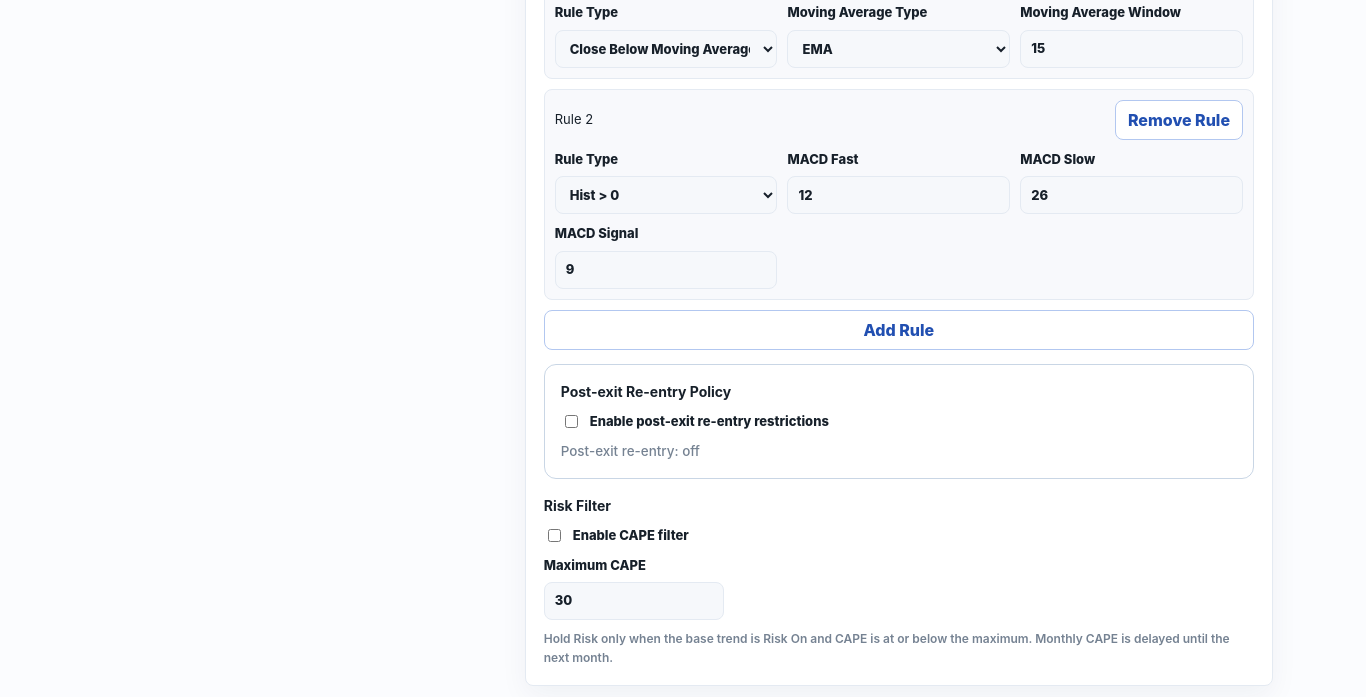
Test: BacktestLabPage › places the policy after exit rules and exposes MACD release parameters with row errors
(page scrolled)
Click the checkbox labelled "Enable post-exit re-entry restrictions" at (571, 422), box [565,415,578,428]
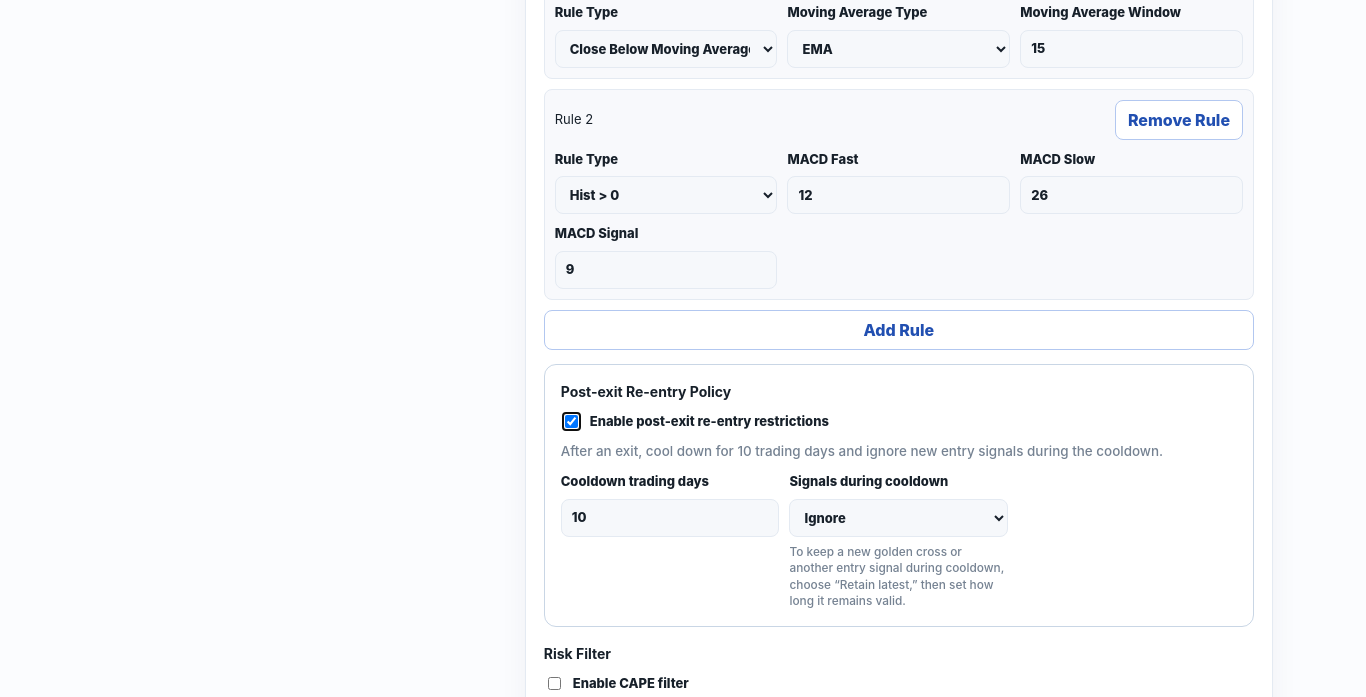
Select "Retain latest" in the dropdown labelled "Signals during cooldown" at (899, 518), box [790,499,1008,537]
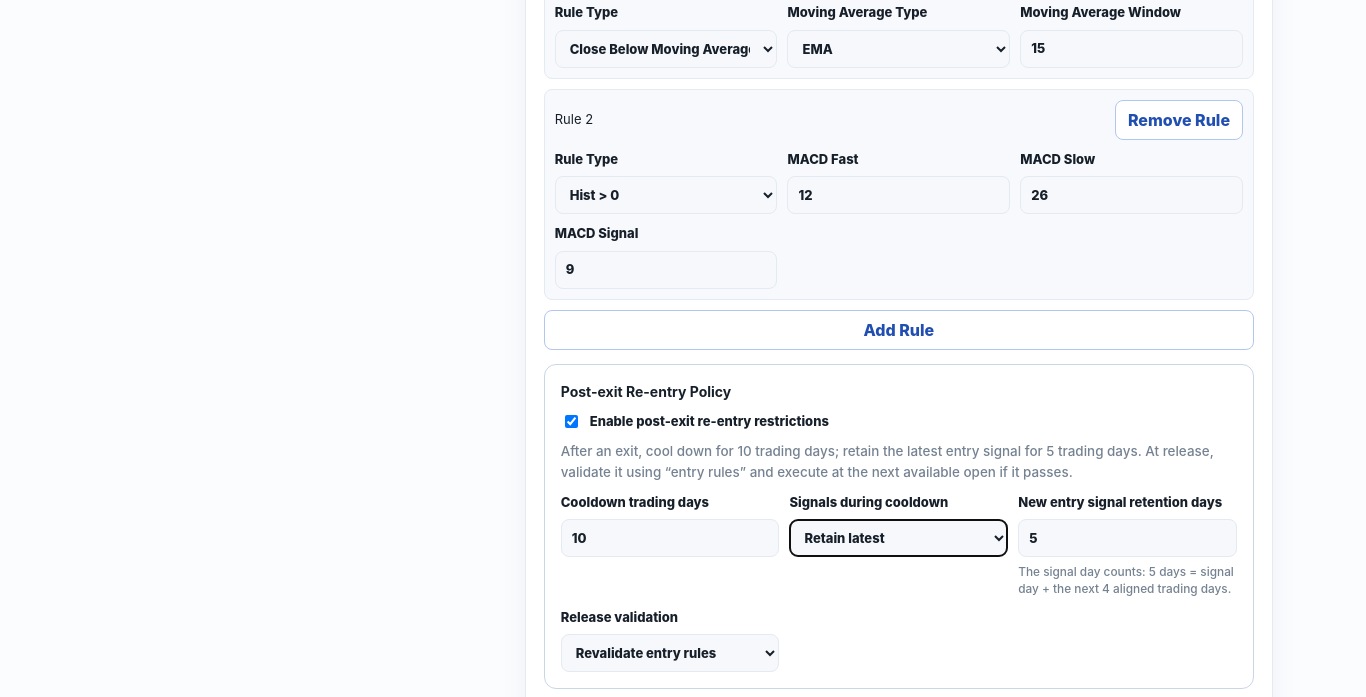
Select "Pass release rule group" in the dropdown labelled "Release validation" at (670, 653), box [561,634,780,672]
(page scrolled)
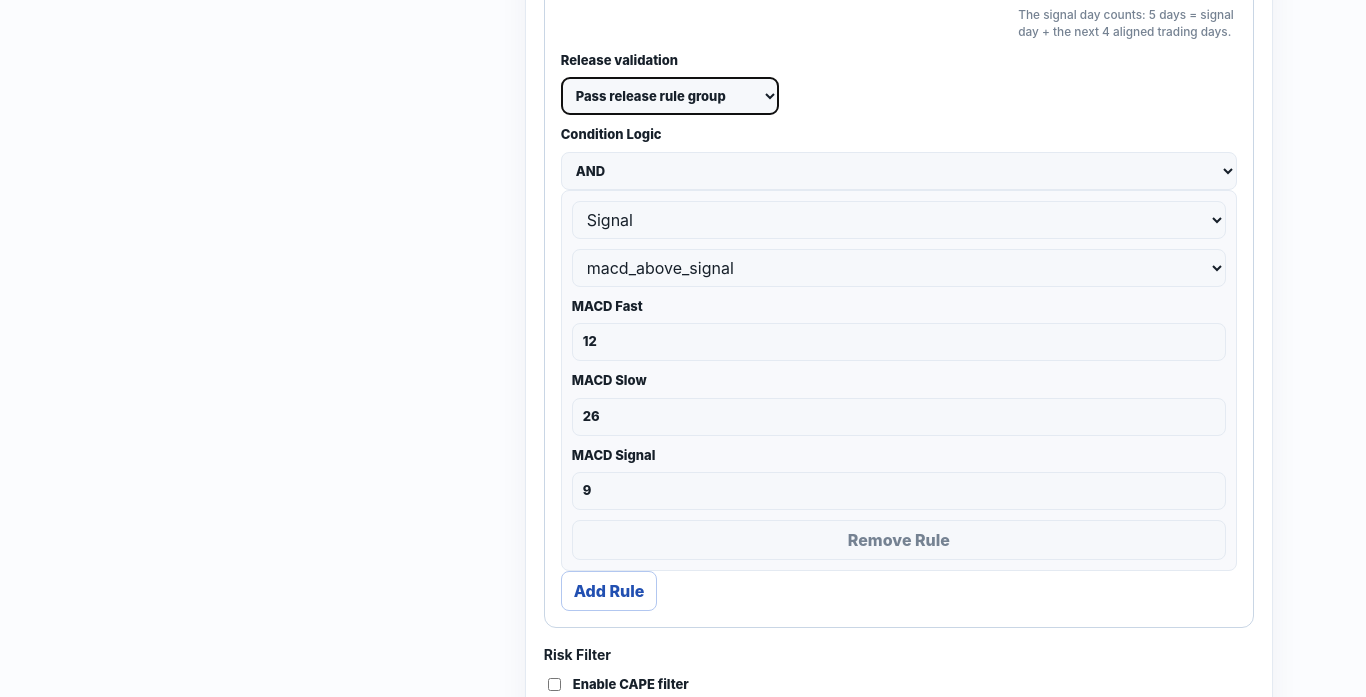
Expected: the field labelled "MACD Fast" holds "12"
Replace the text in the field labelled "MACD Fast" with "0" at (899, 342), box [572,323,1226,361]
(page scrolled)
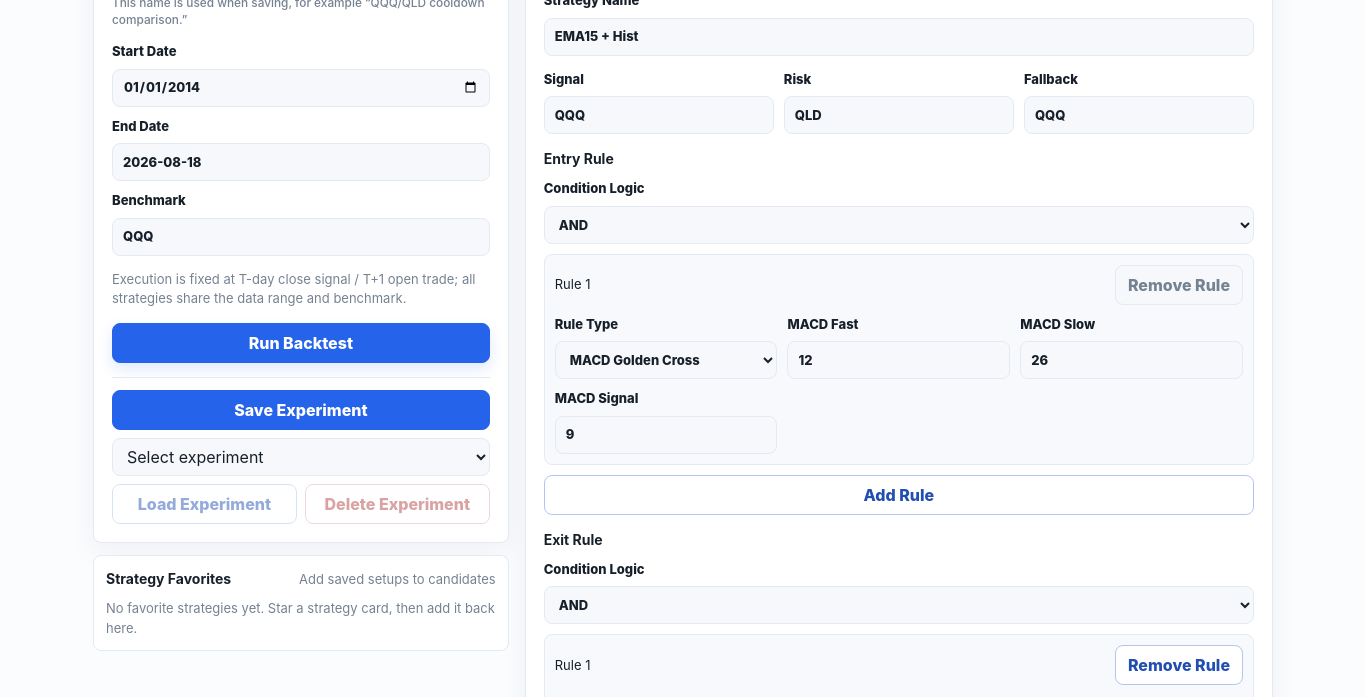
Click the button "Run Backtest" at (301, 343), box [112,323,490,363]
(page scrolled)
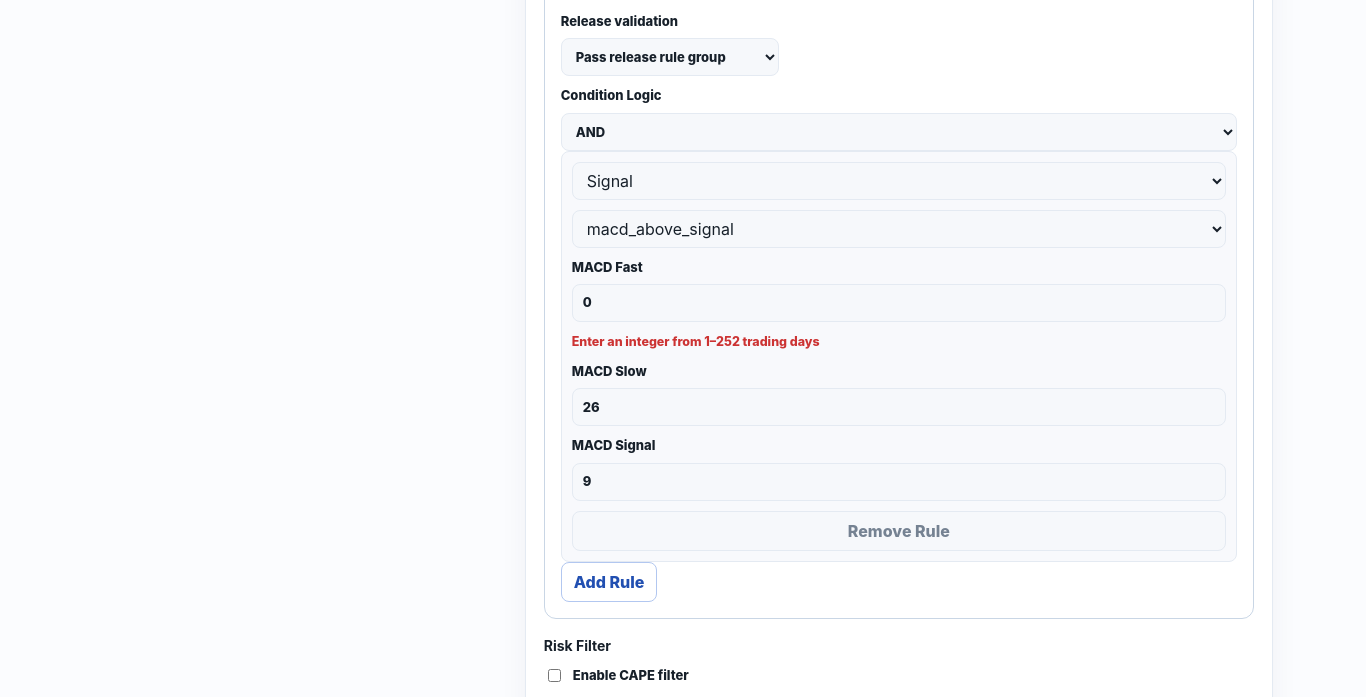
Expected: the text "Enter an integer from 1–252 trading days" is shown, [572,334,820,349]
